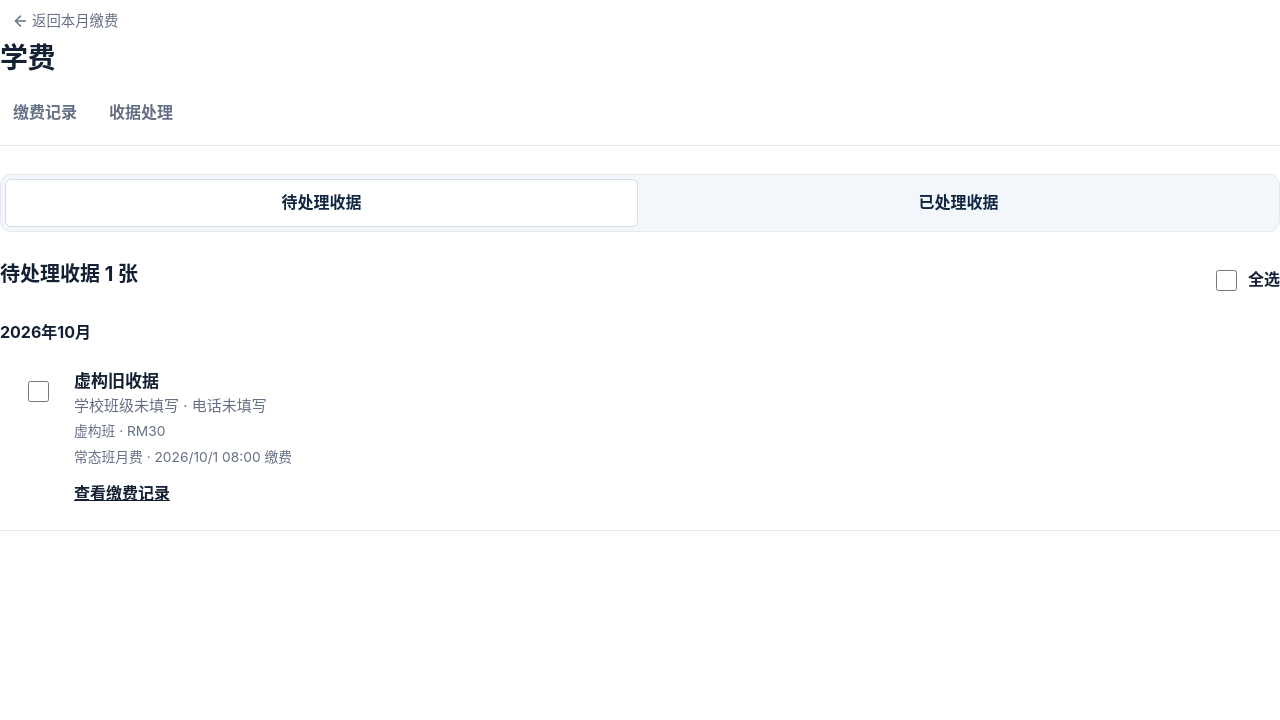
shows new receipts in the same month when the former batch retired=false
Click the checkbox labelled "全选": point(1226, 280) [1216,270,1237,290]
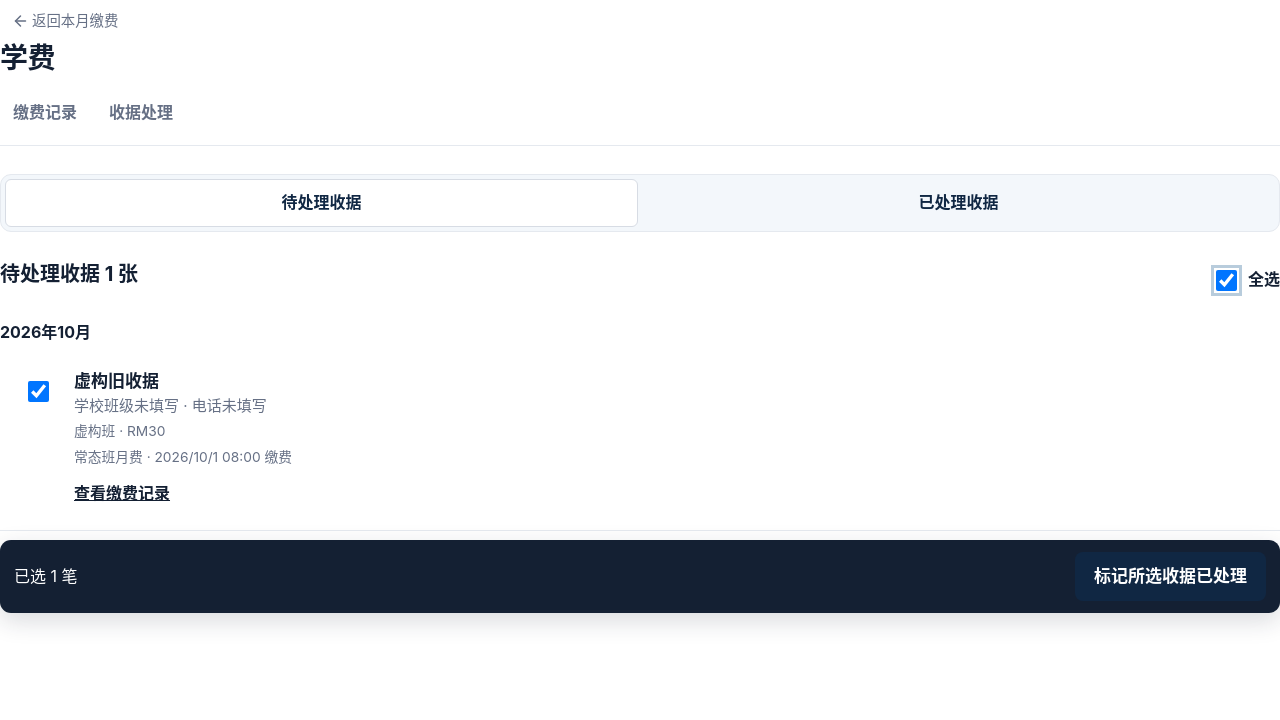
Click the button "标记所选收据已处理": point(1170, 578) [1075,553,1266,602]
(page scrolled)
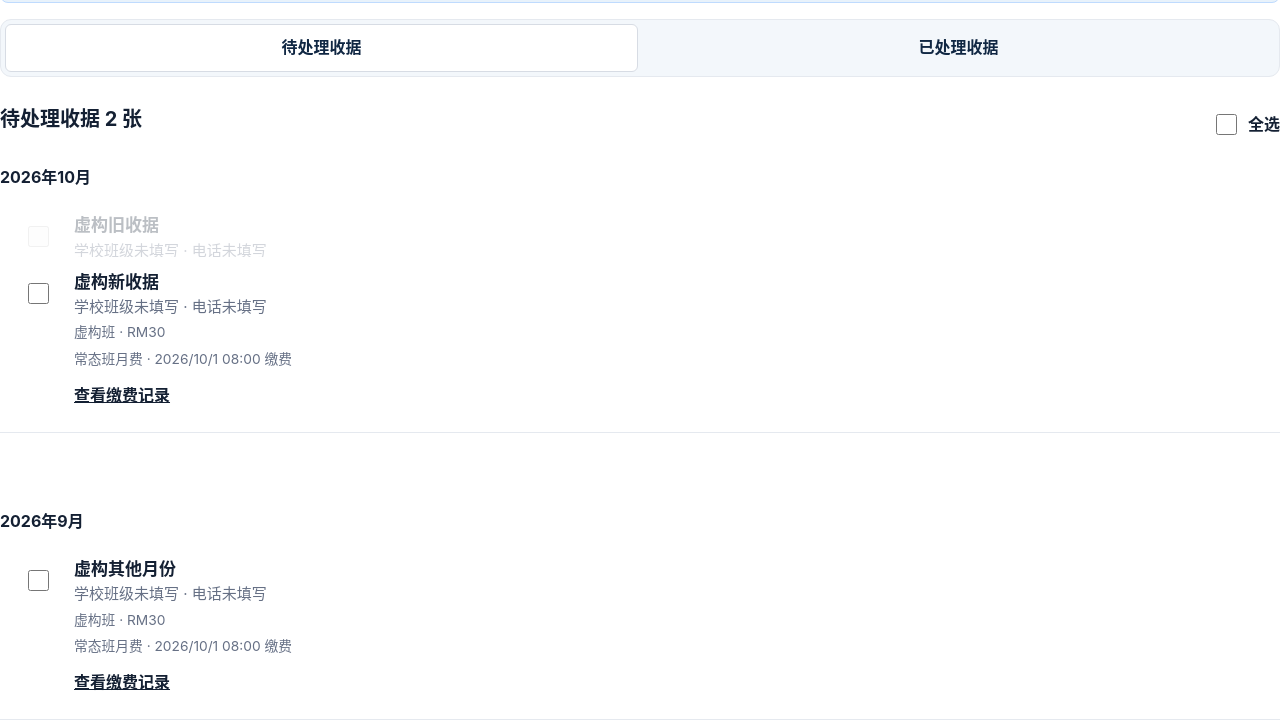
Check: the checkbox named "选择 虚构新收据" is shown, box [28,276,48,298]
Check: the checkbox named "选择 虚构其他月份" is shown, box [28,570,48,591]
